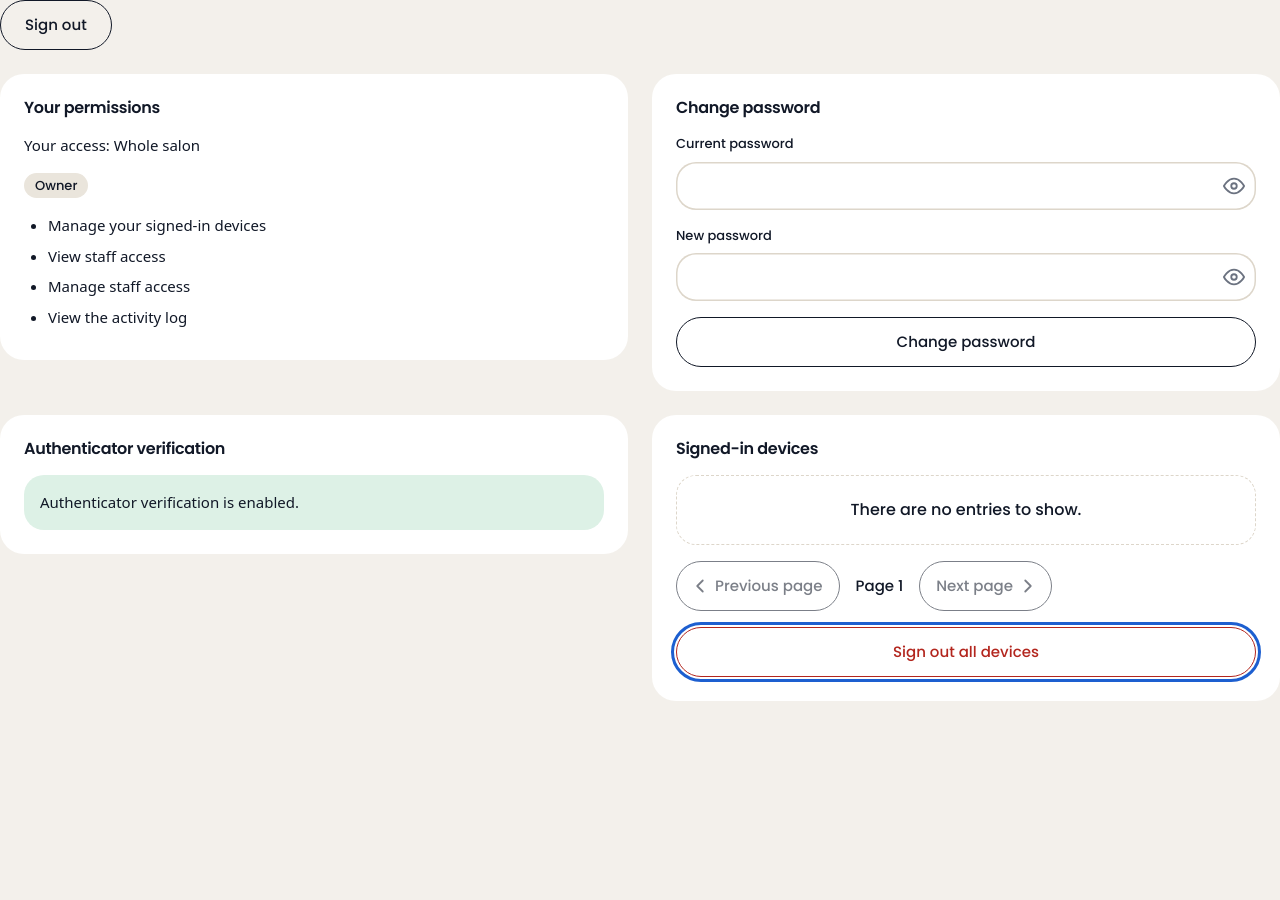
Test: exposes failed staff revoke-all confirmation and reloads without replaying it
What coordinates should you click on to do the following:
click the button with test id "account-revoke-all"
I would click on:
 (966, 652)
Its box is x1=676 y1=627 x2=1256 y2=677.
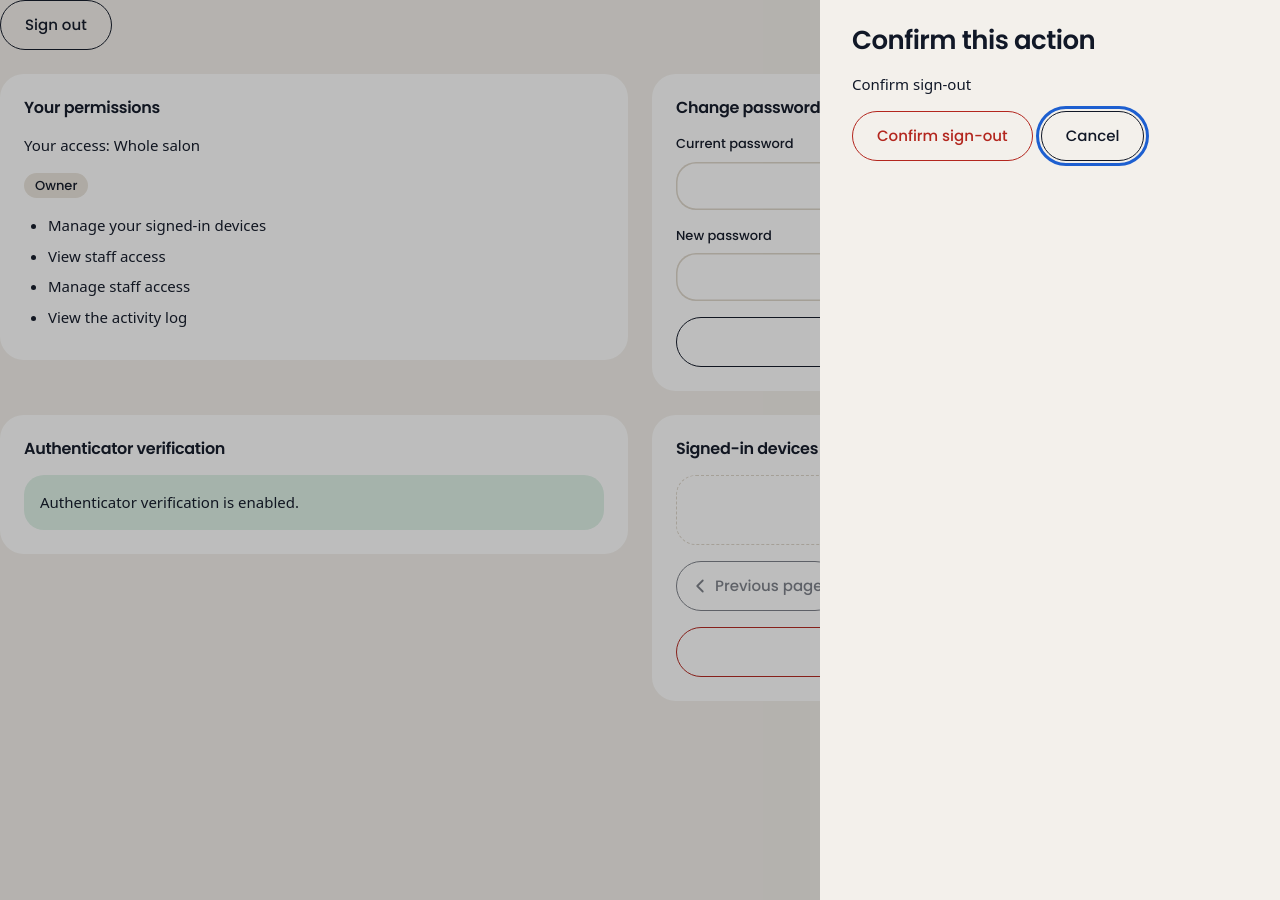
expect the dialog is shown: met, box x1=820 y1=0 x2=1279 y2=899
What coordinates should you click on to do the following:
click the button with test id "account-confirm-action"
I would click on:
 (942, 136)
Its box is x1=852 y1=111 x2=1033 y2=161.
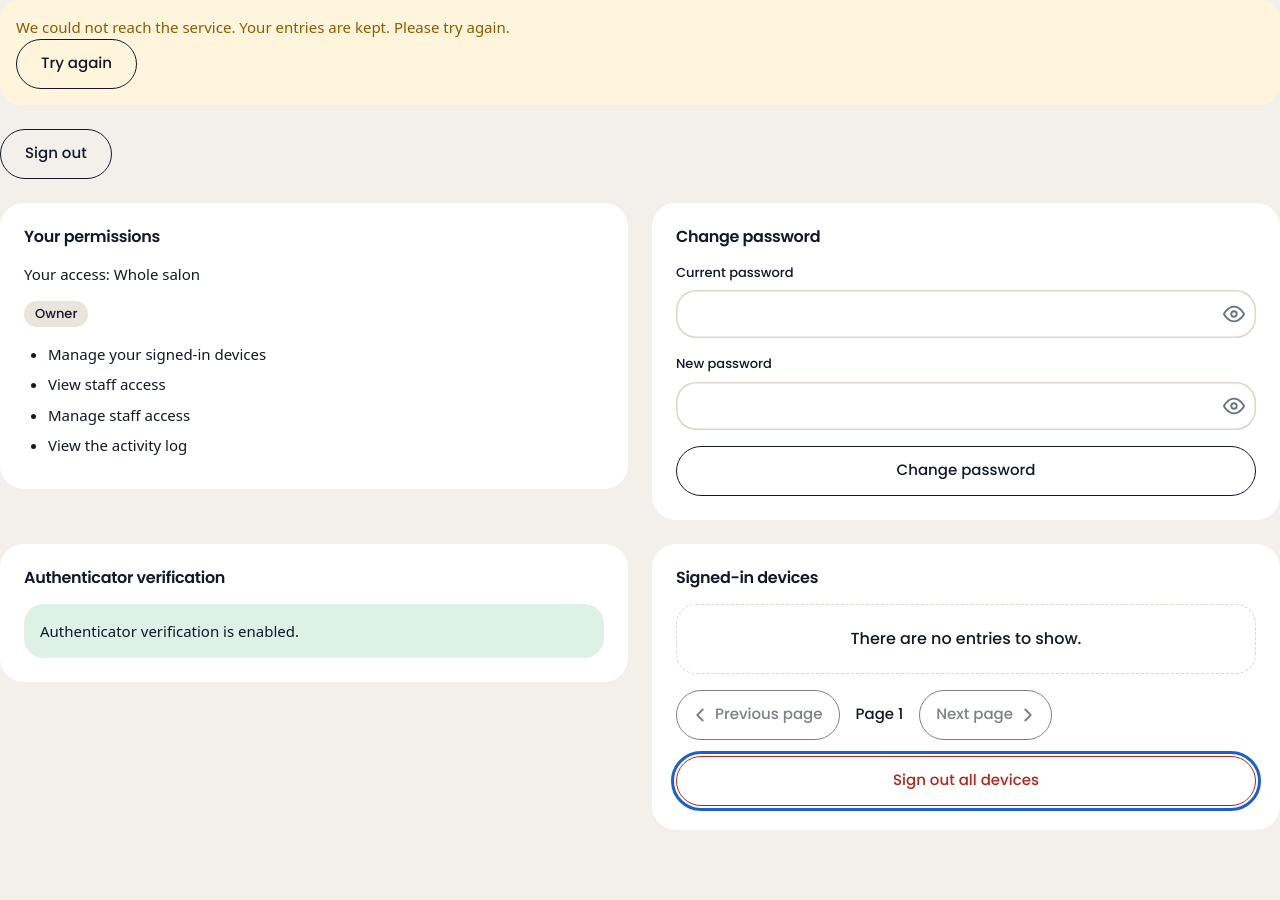
expect the dialog is gone: met
expect the message shows "We could not reach the service. Your entries are kept. Please try again.": met, box x1=16 y1=17 x2=510 y2=37
What coordinates should you click on to do the following:
click the button with test id "account-retry"
I would click on:
 (77, 64)
Its box is x1=16 y1=38 x2=137 y2=88.
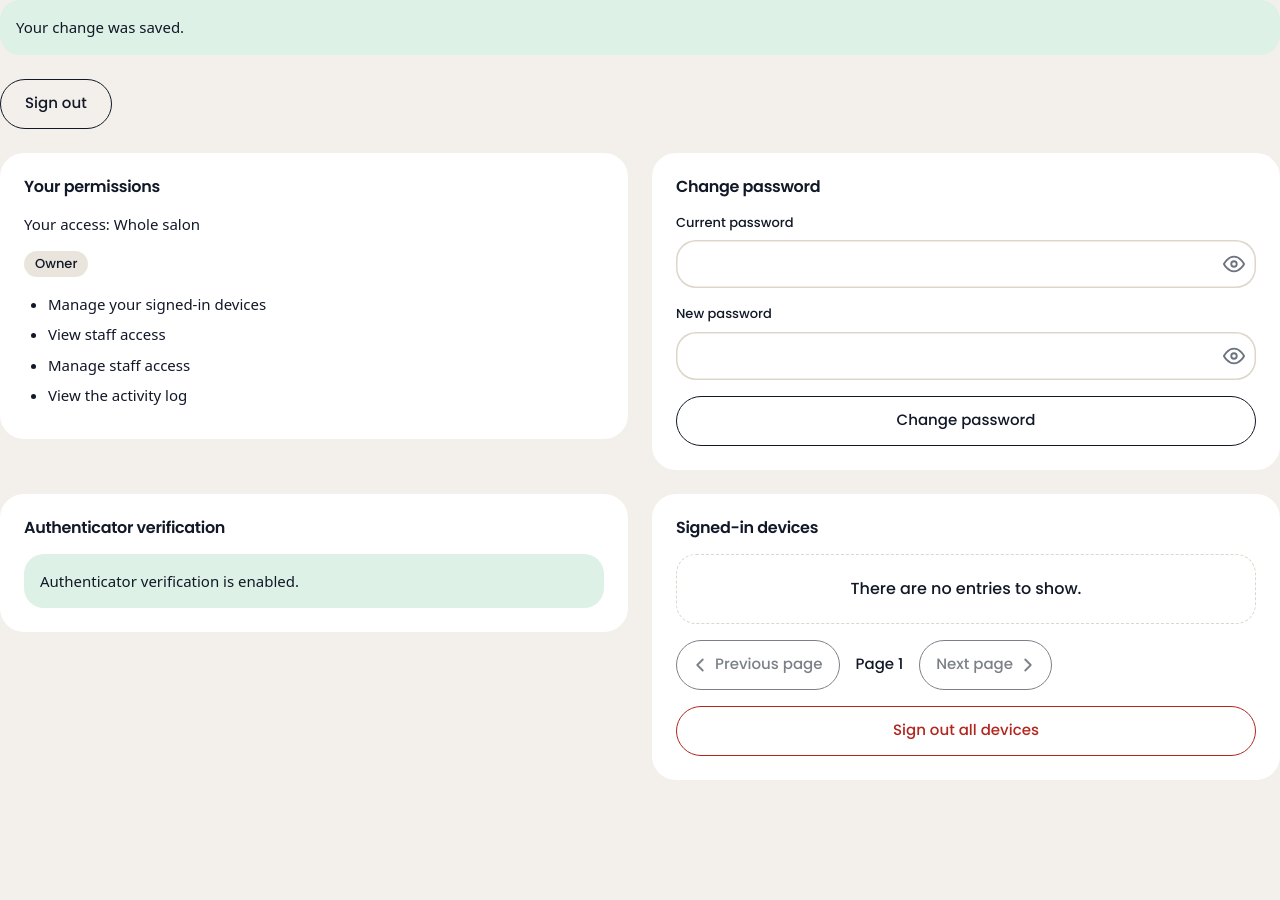
What coordinates should you click on to do the following:
click the button with test id "account-revoke-all"
I would click on:
 (966, 730)
Its box is x1=676 y1=706 x2=1256 y2=756.
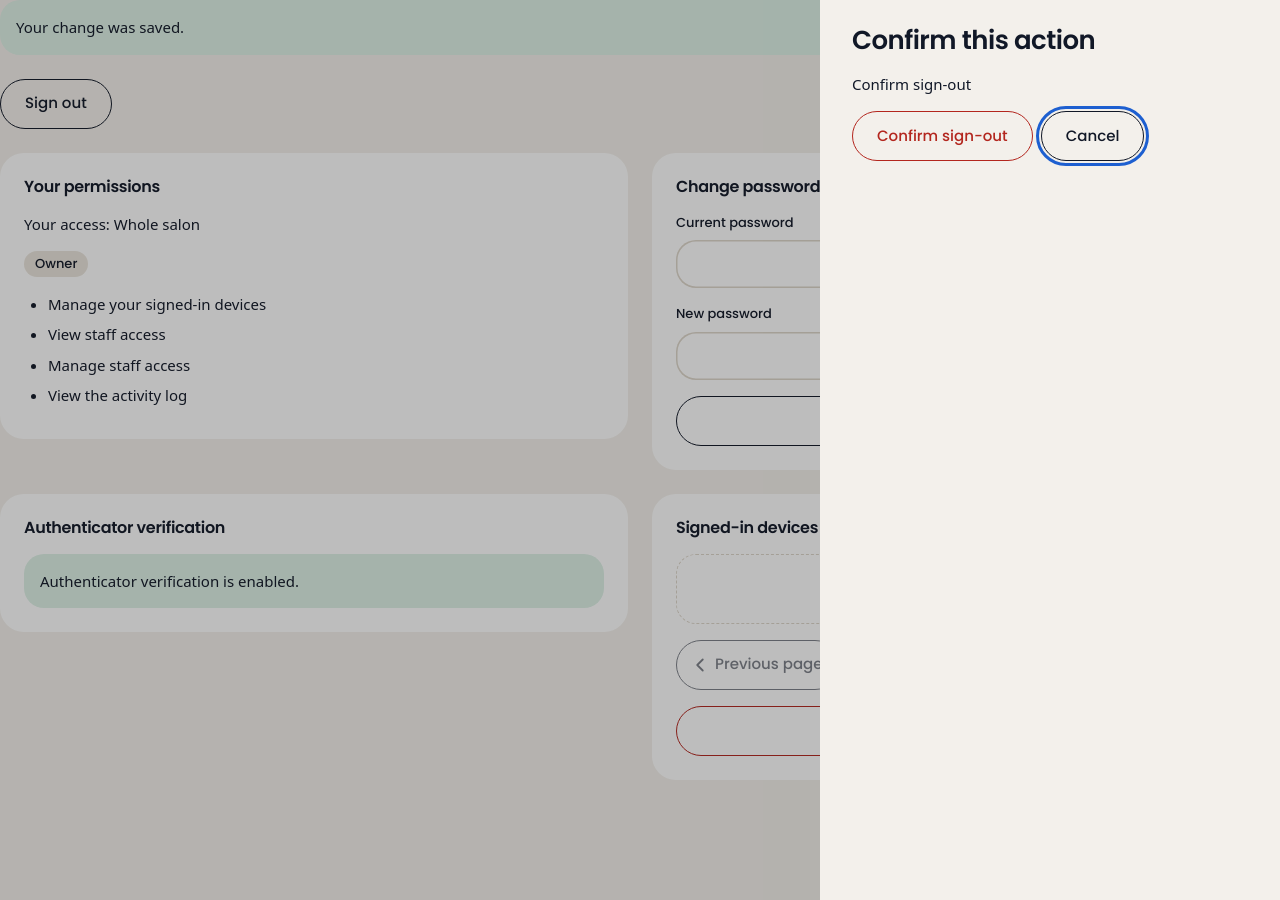
expect the dialog is shown: met, box x1=820 y1=0 x2=1279 y2=899
